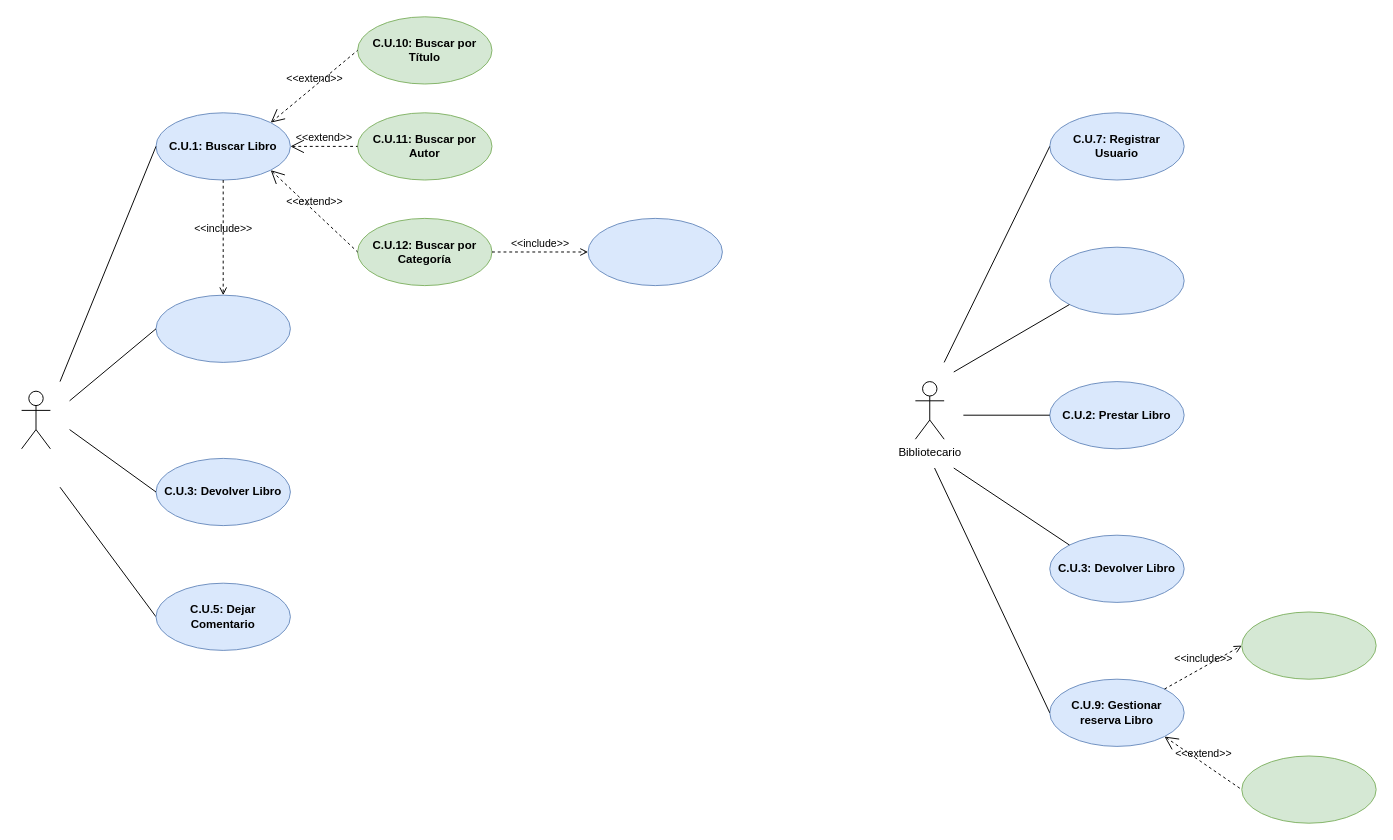
This 1393x840 diagram has some shape labels left out. Here are the shapes that lost their labels. From the top down, the box of each, then its label:
(587, 217, 722, 286): C.U.6: Ver lista Libros
(1049, 246, 1184, 314): C.U.8: Agregar Libro
(155, 294, 290, 362): C.U.4: Seleccionar Libro
(21, 390, 50, 449): Usuario
(1241, 611, 1376, 679): C.U.13: Visualizar Información
(1241, 755, 1376, 823): C.U.14: Modificar Información
